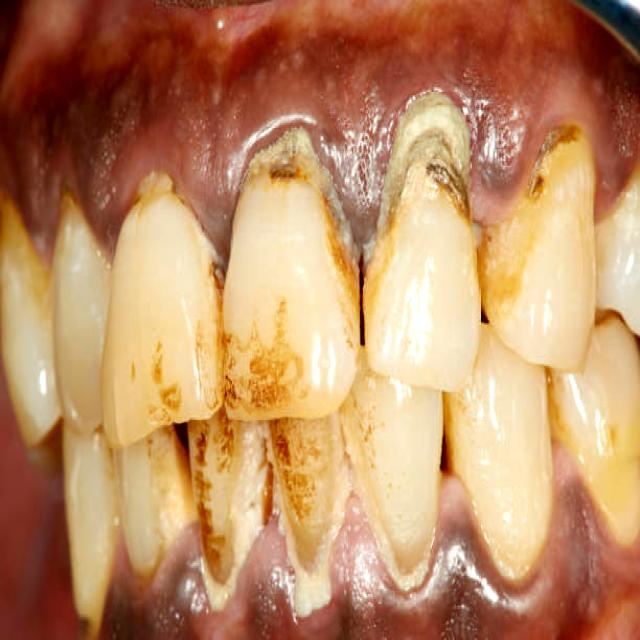calculus: (242, 127, 361, 271), (376, 103, 470, 243), (479, 144, 547, 318), (353, 473, 433, 594), (282, 515, 343, 606), (201, 527, 262, 610), (131, 171, 177, 208)
gingivitis: (0, 0, 639, 256), (120, 474, 639, 638)
